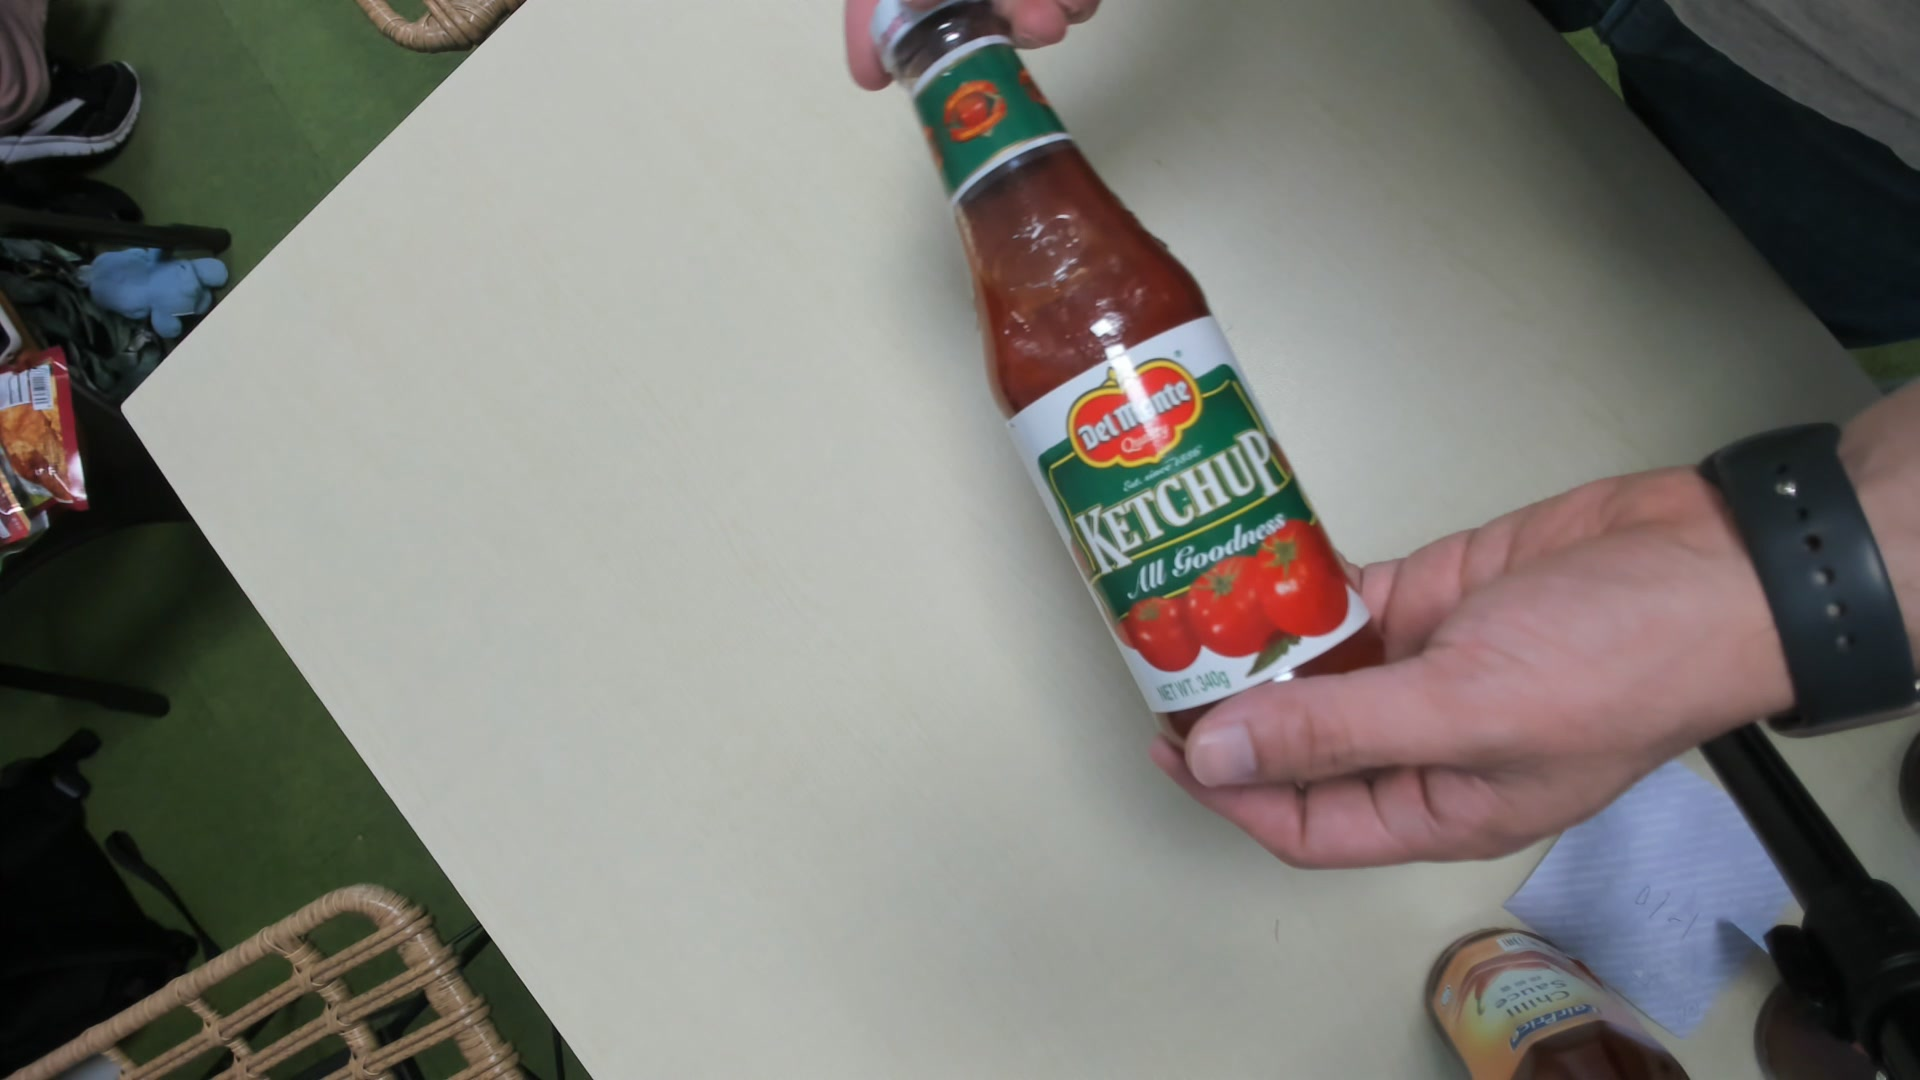KetchupChillSauce_300-399g_Halal_NonHealthy: (861, 1, 1391, 767)
